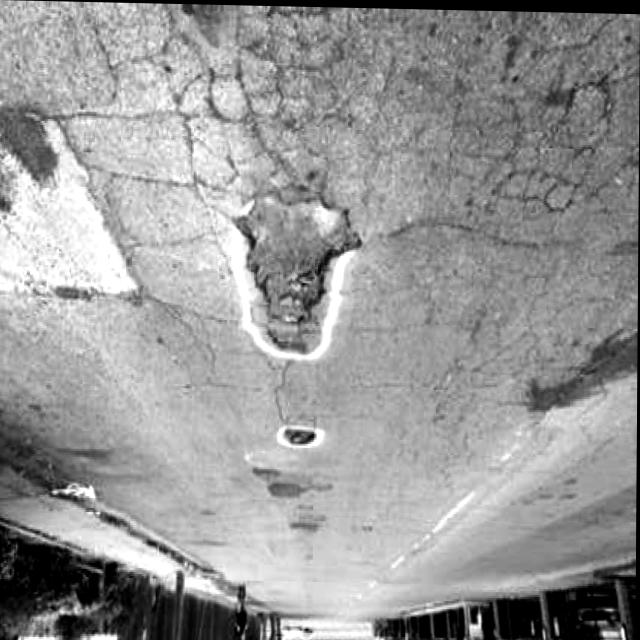pathole: (231, 184, 361, 359), (242, 194, 360, 322), (529, 329, 638, 411), (246, 448, 334, 529), (277, 423, 325, 446), (269, 320, 299, 345)
